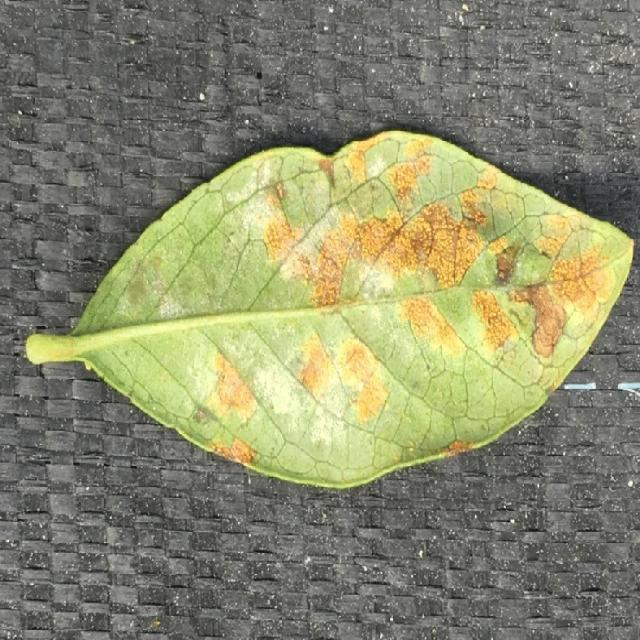leaf_rust: (26, 132, 633, 487)
